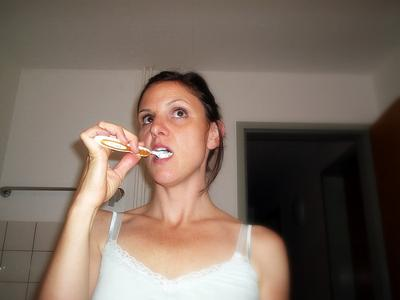person: (36, 67, 290, 300)
